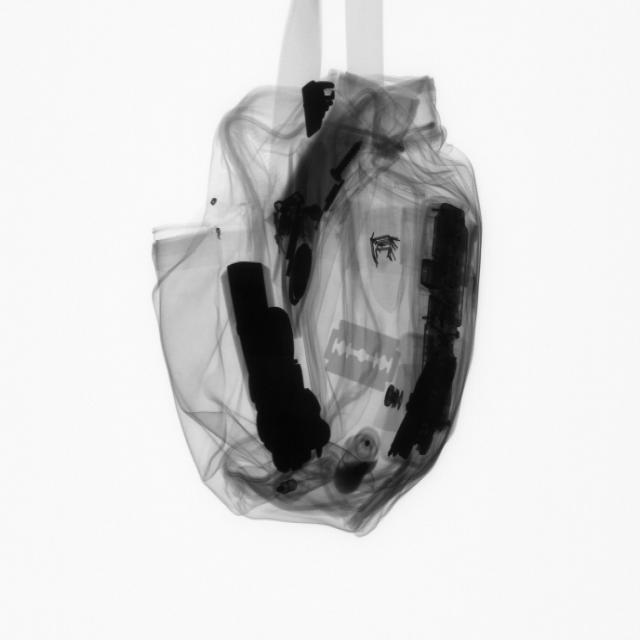BLADE: (319, 312, 406, 394)
GUN: (221, 255, 336, 475)
SCREW: (323, 135, 374, 191)
